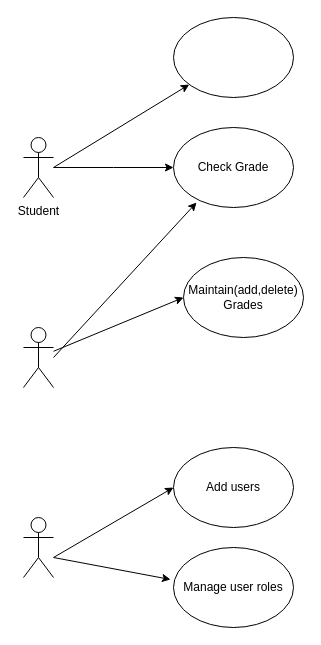
Image size: 321x645. Some labels were removed from this diagram. Here are the shapes that lost their labels. From the top down, the box of each, then its label:
(172, 16, 294, 98): Eroll
(22, 326, 54, 388): Teacher
(22, 516, 54, 578): Admin
